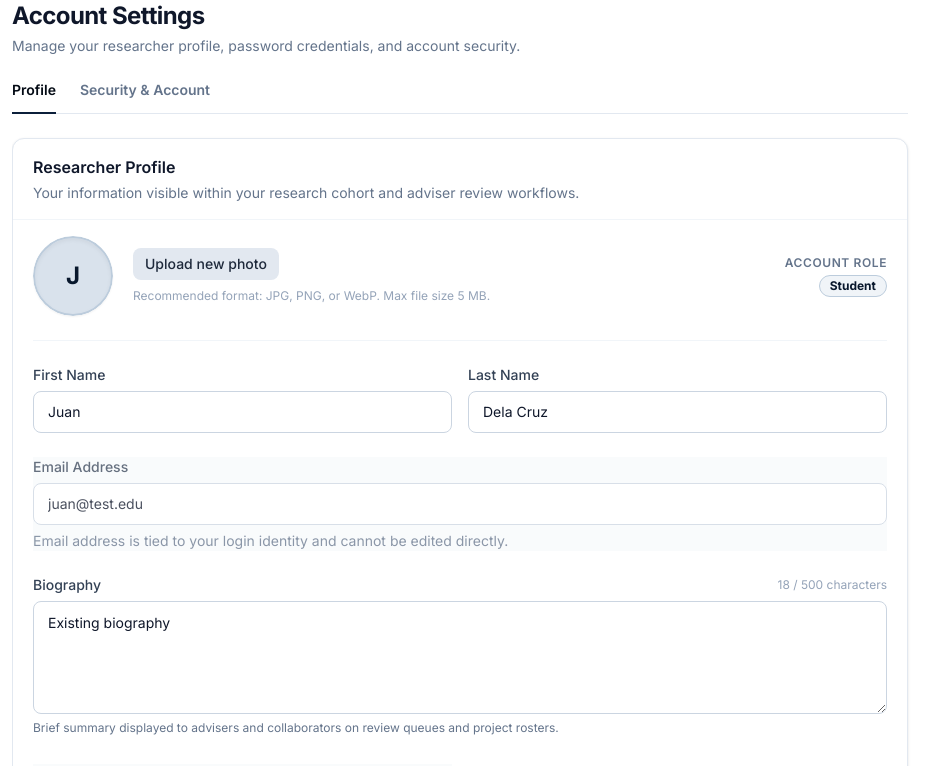
SettingsPage Component Tests (§2 & §7 Spec) › 5. Maps server 400 fieldErrors onto the right inputs
Note: Change value so save button enables
Step 1. Replace the text in the field labelled "First Name" with "ValidName" → (242,412), box [33, 391, 452, 433]
(page scrolled)
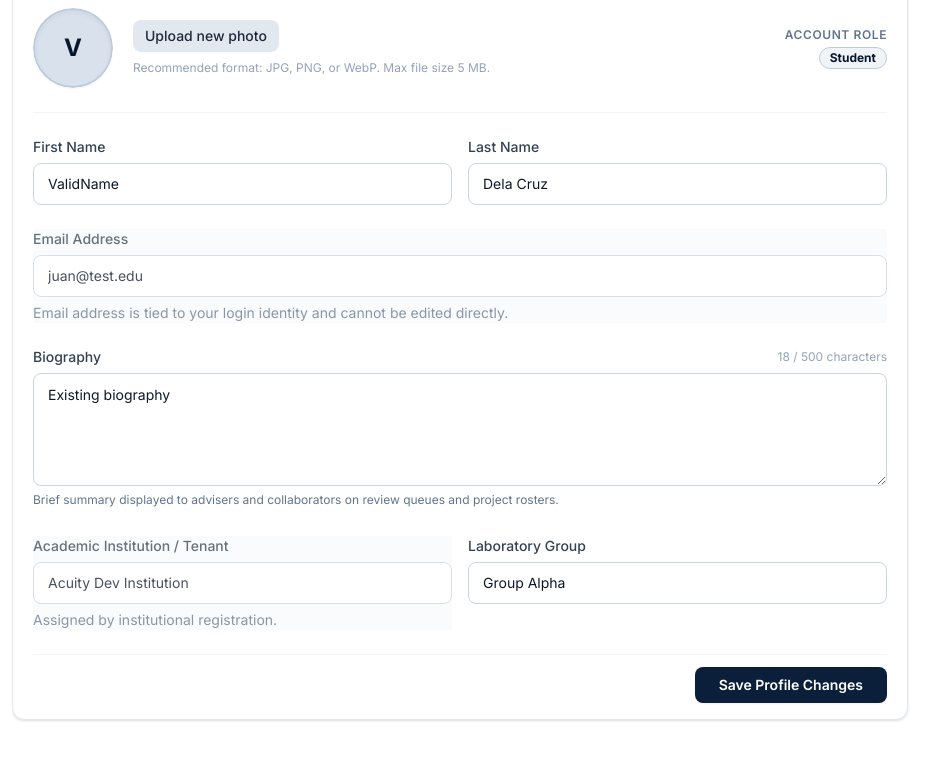
Check: the button "Save Profile Changes" is enabled
Step 2. Click the button "Save Profile Changes" → (791,685), box [695, 667, 887, 703]
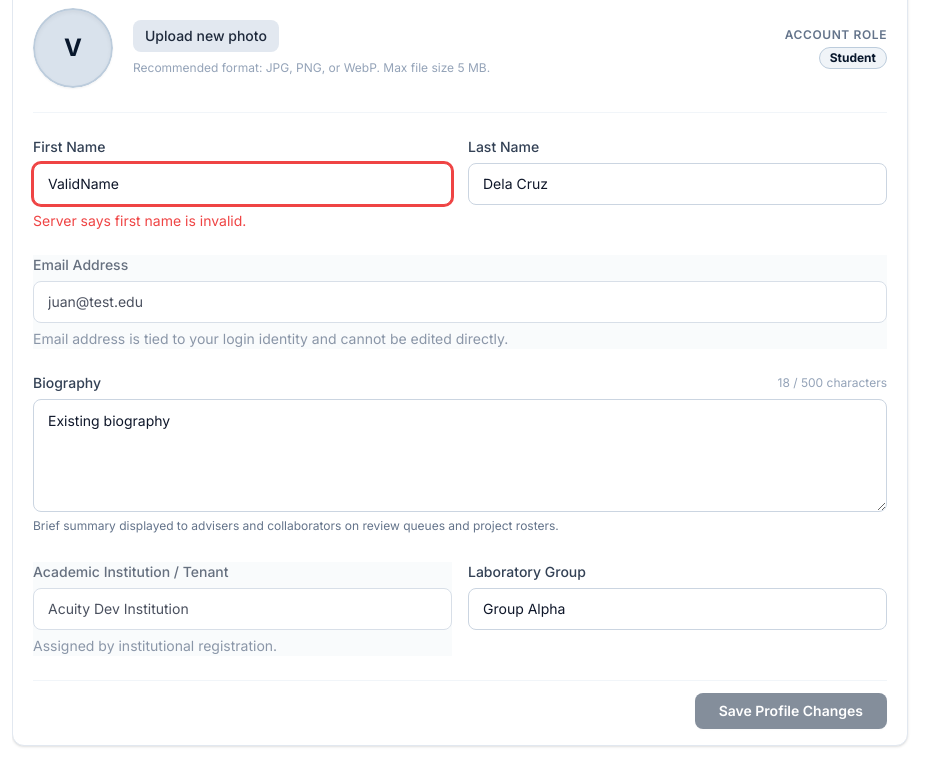
Check: the text "Server says first name is invalid." is shown, box [33, 212, 246, 229]
